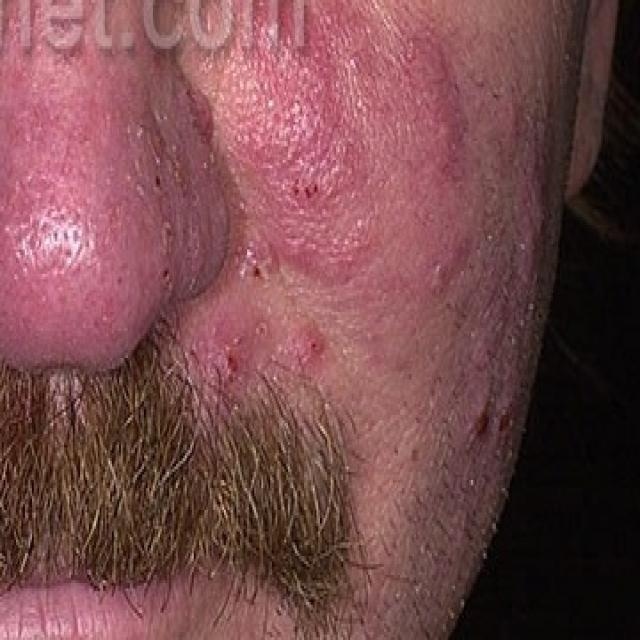Rosacea: (240, 42, 433, 280)
